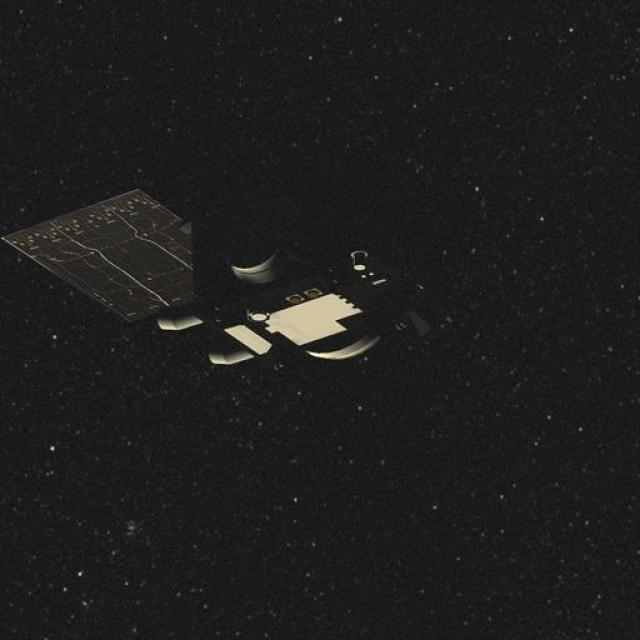proba_3_csc: (0, 166, 429, 412)
